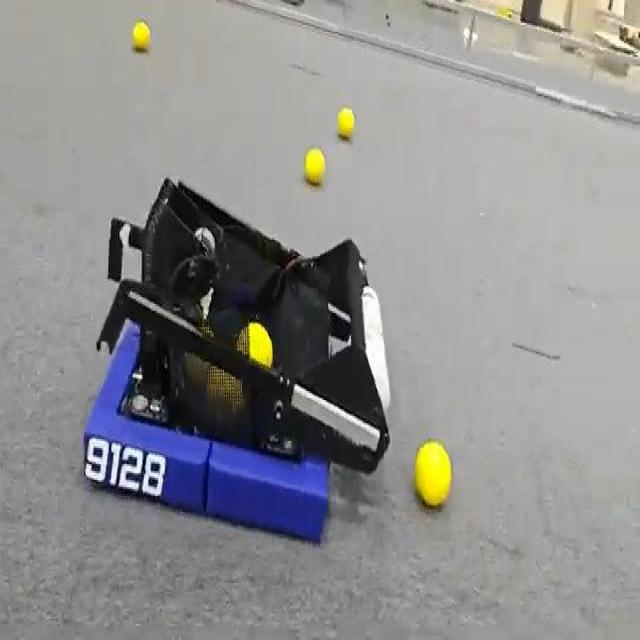Fuel: (414, 441, 451, 507), (415, 441, 452, 507), (206, 369, 242, 422), (240, 321, 274, 368), (304, 147, 324, 185), (305, 148, 325, 185), (337, 106, 354, 138), (132, 21, 150, 51), (132, 21, 150, 50), (338, 107, 354, 138), (236, 325, 250, 358), (498, 7, 513, 20), (137, 20, 148, 36), (132, 23, 138, 45)
